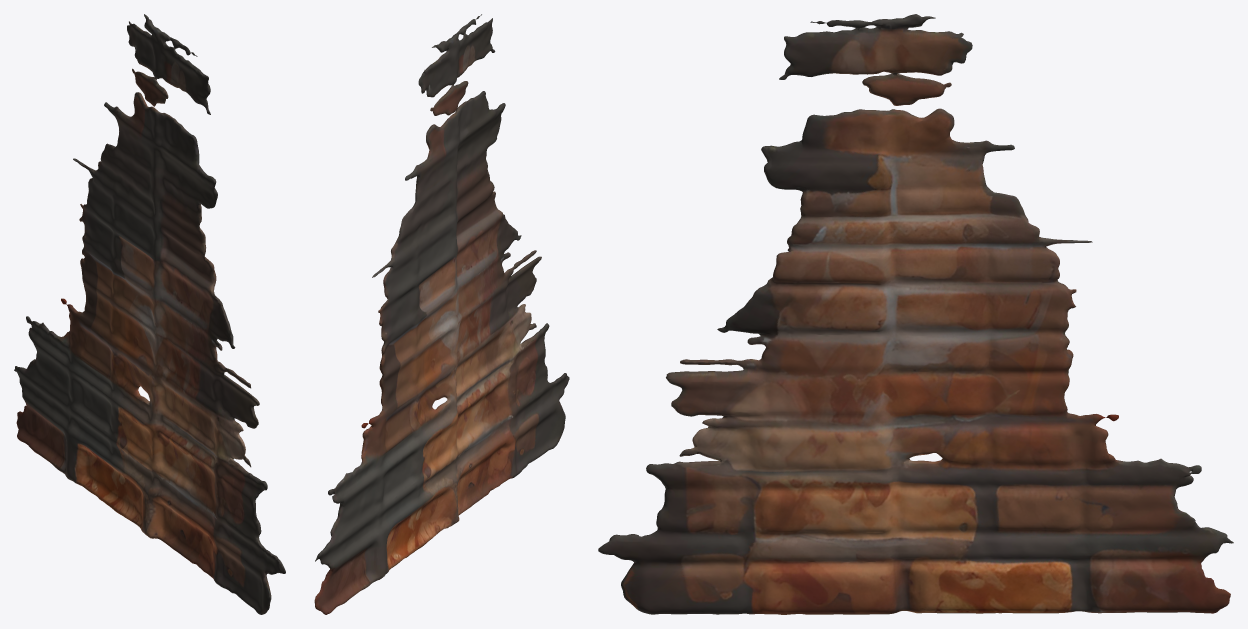
Rendered from wall_brick.glb.
3 views of the same model, side by side, from view 1: azimuth 30°, elevation 25°; view 2: azimuth 150°, elevation 25°; view 3: azimuth 270°, elevation 25° (orthographic). The views are drawn at different scales.
Visible parts, largest first — view 1: tripo_node_12287691-0001-43ab-8d88-5fa542a3e2a3; view 2: tripo_node_12287691-0001-43ab-8d88-5fa542a3e2a3; view 3: tripo_node_12287691-0001-43ab-8d88-5fa542a3e2a3.
Part boxes in pixels (x1,y1,x2,y2): tripo_node_12287691-0001-43ab-8d88-5fa542a3e2a3: (14,14,285,614); tripo_node_12287691-0001-43ab-8d88-5fa542a3e2a3: (314,14,569,614); tripo_node_12287691-0001-43ab-8d88-5fa542a3e2a3: (598,14,1233,614).
Bounding box in the file's own units: 0.0198 × 0.5196 × 0.4971.
1 material, 1 textured.
